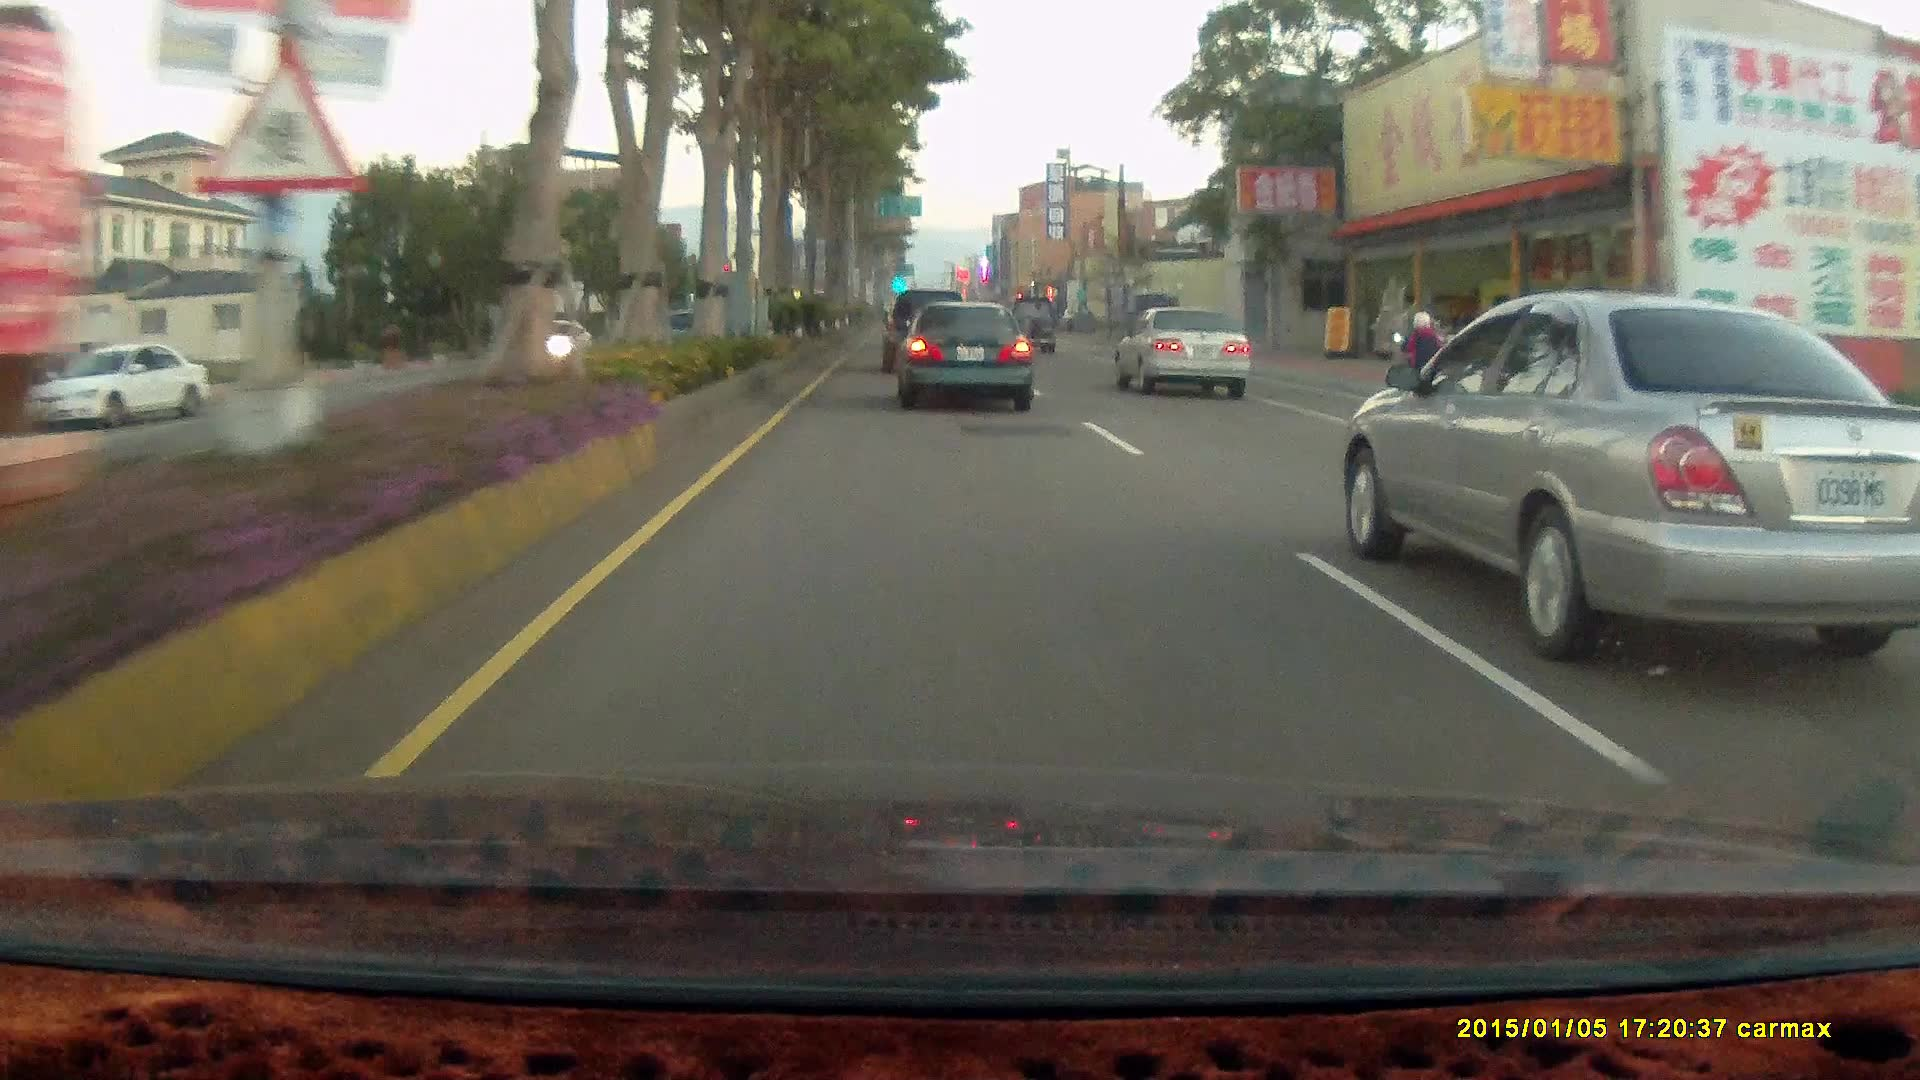rider: (1382, 299, 1459, 427), (1395, 308, 1453, 417)
vehicle: (1341, 289, 1920, 639), (16, 342, 208, 431), (23, 341, 210, 431), (895, 298, 1036, 415), (893, 299, 1035, 411), (1111, 303, 1250, 397), (1122, 301, 1257, 393), (883, 288, 973, 372), (880, 288, 963, 374), (508, 315, 593, 367), (1004, 291, 1057, 355), (1123, 292, 1178, 345)
